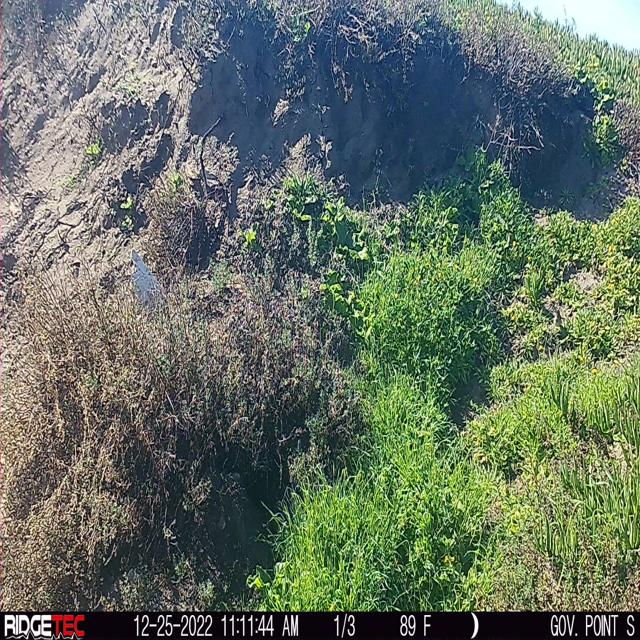bird: (550, 304, 570, 335)
